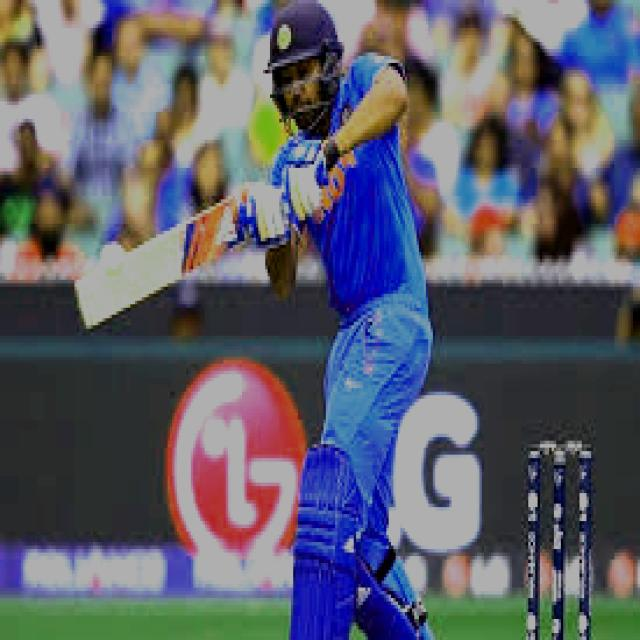toe: (68, 275, 96, 333)
